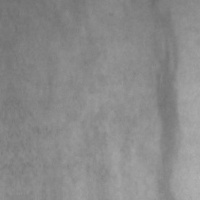inclusion: (142, 7, 188, 182)
